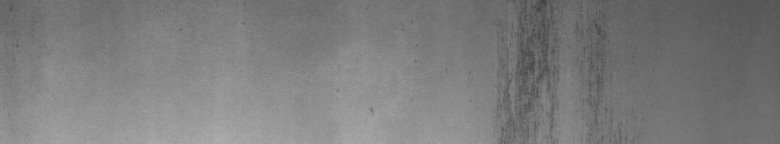ka: (496, 4, 608, 136)
